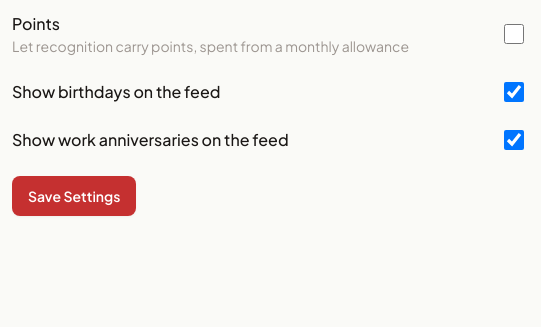
Scenario: EngagementSettingsForm › shows the allowance input once points are toggled on
Click the checkbox named "Points enabled".
click(514, 34)  # box [504,24,524,44]
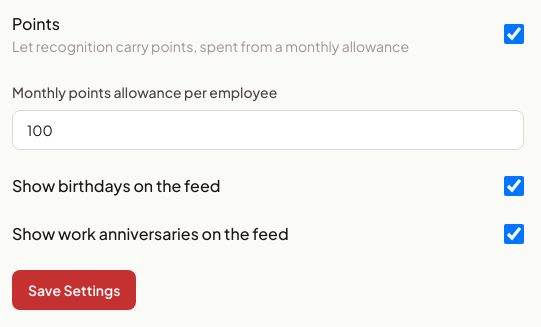
Expected: the number field labelled "Monthly points allowance per employee" is shown, [12,110,524,150]
